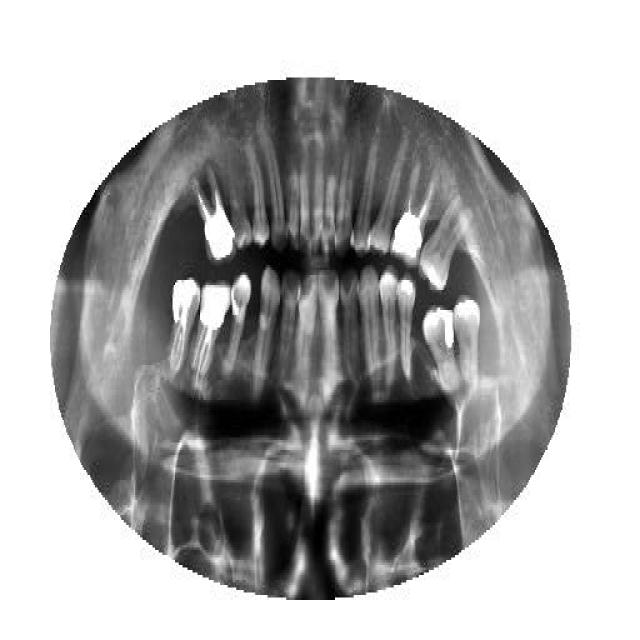Fillings: (422, 300, 458, 398), (398, 275, 418, 383)
Implant: (390, 160, 439, 270), (188, 282, 234, 392), (192, 165, 238, 263), (169, 278, 201, 380)
